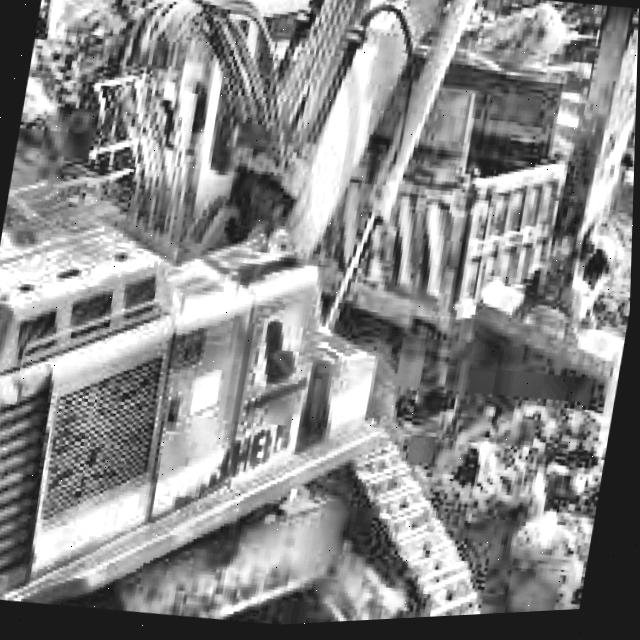dump_truck: (366, 57, 576, 395)
excavator: (0, 0, 640, 640)
